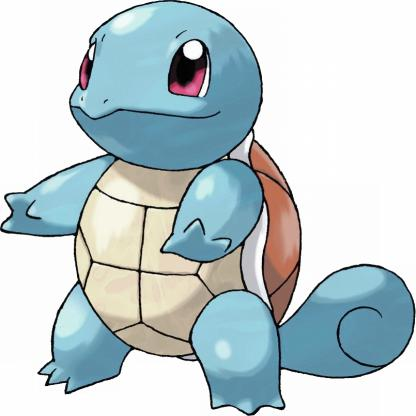Squirtle: (1, 8, 416, 416)
